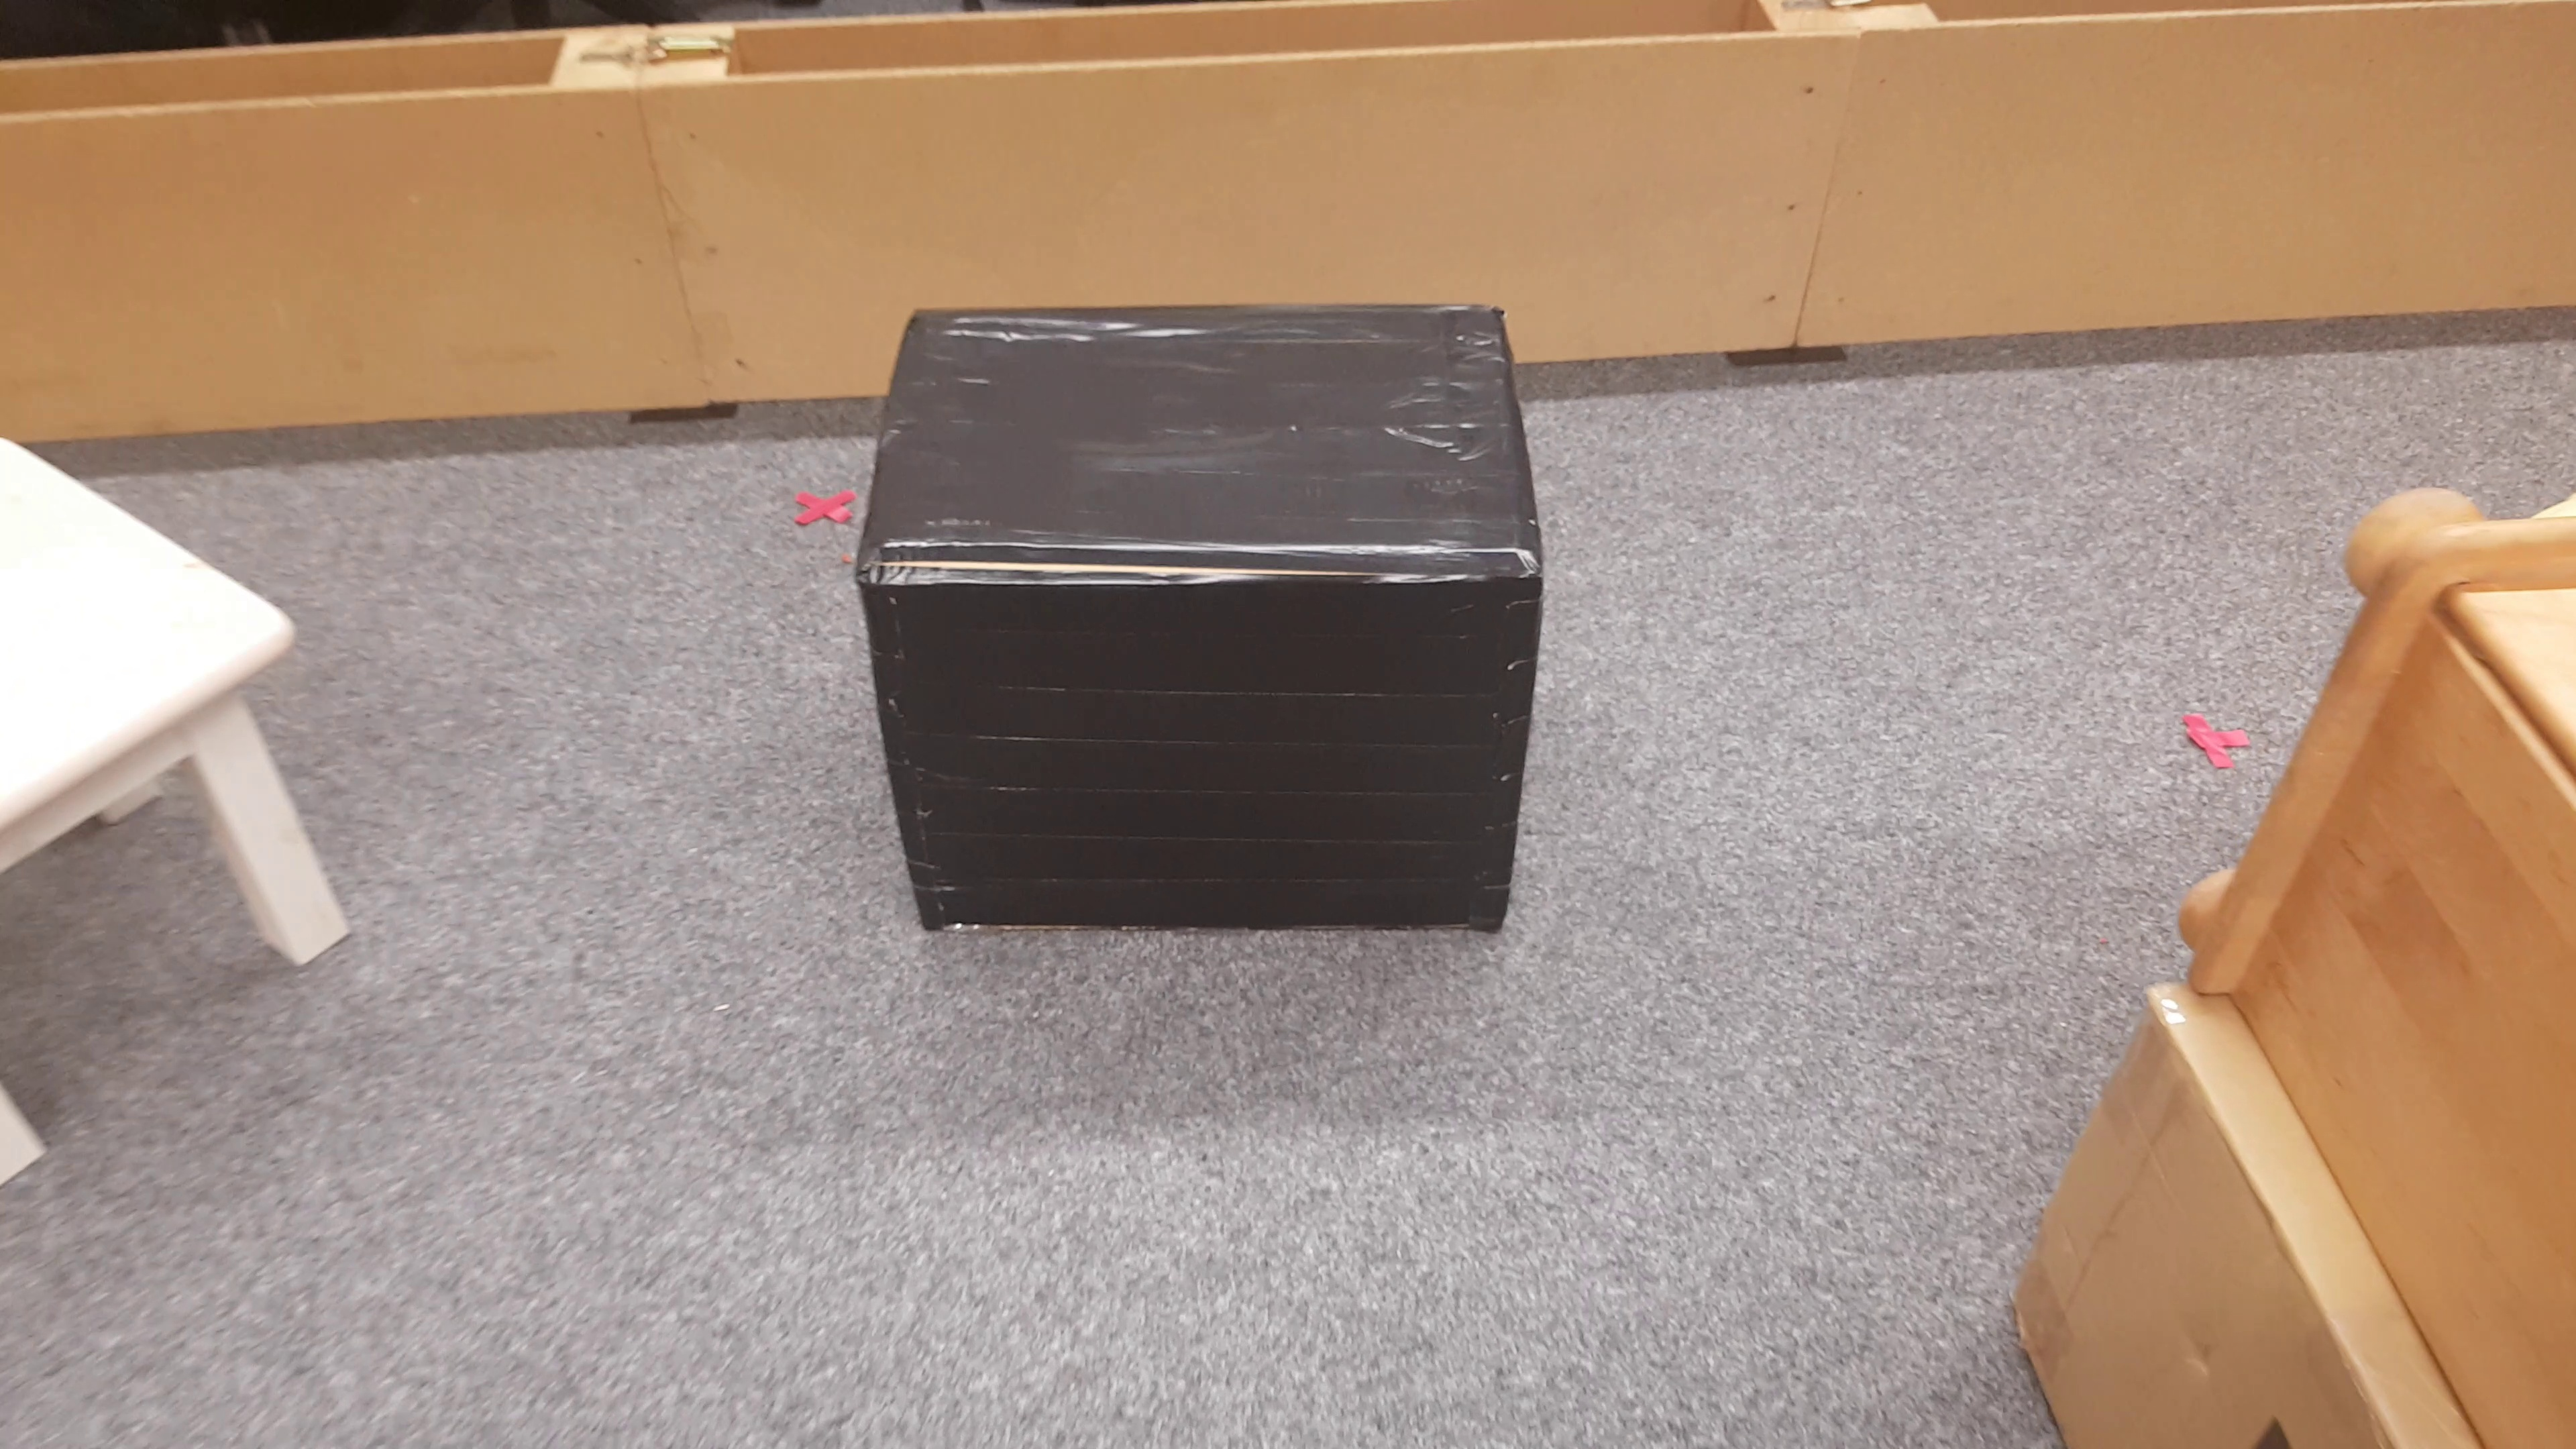push: (863, 303, 1543, 945)
